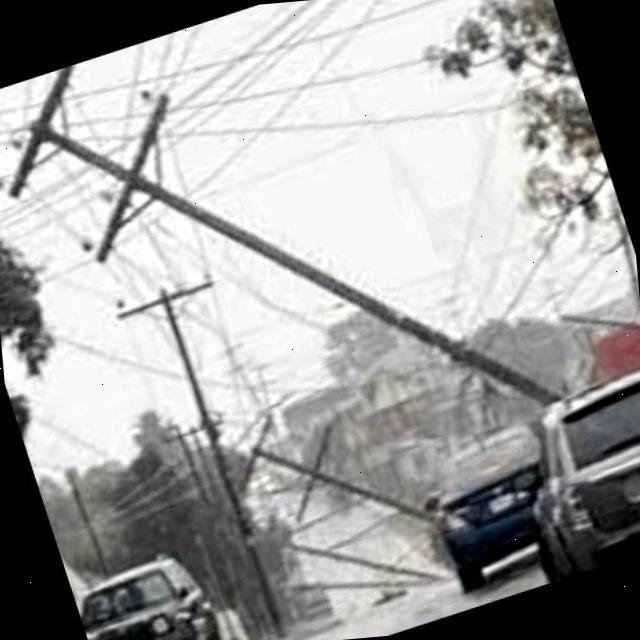Broken Pole: (0, 65, 559, 410), (229, 408, 434, 525), (285, 536, 442, 585), (283, 579, 403, 595)
